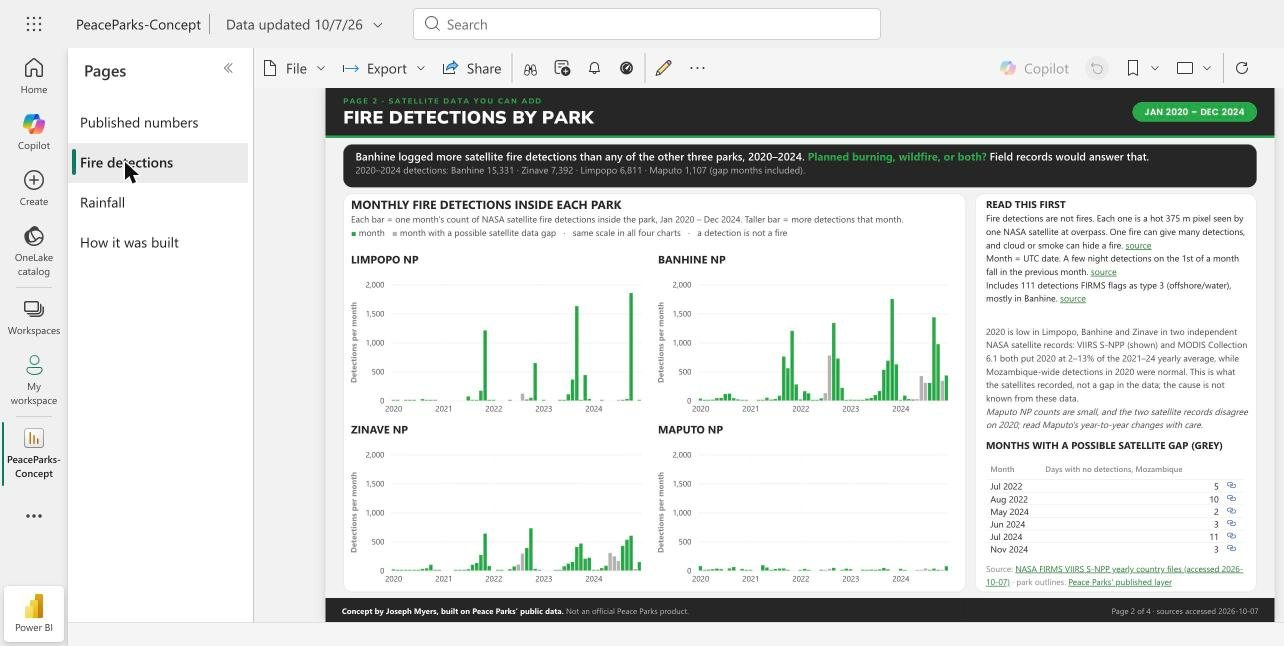

Layout of this report page (visuals, bound fields, positions):
{"tool":"powerbi","page":{"name":"Fire detections","canvas":[1280,720],"ordinal":1},"visuals":[{"type":"textbox","box":[36,79,1208,52],"z":2001},{"type":"textbox","box":[32,146,824,70],"z":2002},{"type":"clusteredColumnChart","title":"LIMPOPO NP","fields":{"Category":["P2_Fires10.MonthDate"],"Y":["P2_Fires10.Fire Detections"]},"box":[32,218,410,226],"z":2003},{"type":"clusteredColumnChart","title":"BANHINE NP","fields":{"Category":["P2_Fires10.MonthDate"],"Y":["P2_Fires10.Fire Detections"]},"box":[446,218,410,226],"z":2004},{"type":"clusteredColumnChart","title":"ZINAVE NP","fields":{"Category":["P2_Fires10.MonthDate"],"Y":["P2_Fires10.Fire Detections"]},"box":[32,448,410,226],"z":2005},{"type":"clusteredColumnChart","title":"MAPUTO NP","fields":{"Category":["P2_Fires10.MonthDate"],"Y":["P2_Fires10.Fire Detections"]},"box":[446,448,410,226],"z":2006},{"type":"textbox","box":[884,146,364,170],"z":2007},{"type":"textbox","box":[884,318,364,150],"z":2008},{"type":"tableEx","title":"MONTHS WITH A POSSIBLE SATELLITE GAP (GREY)","fields":{"Values":["P2_FireGapMonths11.MonthLabel","P2_FireGapMonths11.GapDays","P2_FireGapMonths11.Source","P2_FireGapMonths11.MonthDate"]},"box":[884,470,364,166],"z":2009},{"type":"textbox","box":[884,638,364,39],"z":2010},{"type":"textbox","box":[0,688,860,32],"z":2900},{"type":"textbox","box":[860,688,420,32],"z":2901}]}

Visuals, with their boxes on the page's 1280x720 design canvas (x1, y1, x2, y2). These are canvas units, not pixel positions in the 1284x646 screenshot, which may show the page scaled, cropped or inside an application window:
textbox: locate(36, 79, 1244, 131)
textbox: locate(32, 146, 856, 216)
"LIMPOPO NP" clusteredColumnChart: locate(32, 218, 442, 444)
"BANHINE NP" clusteredColumnChart: locate(446, 218, 856, 444)
"ZINAVE NP" clusteredColumnChart: locate(32, 448, 442, 674)
"MAPUTO NP" clusteredColumnChart: locate(446, 448, 856, 674)
textbox: locate(884, 146, 1248, 316)
textbox: locate(884, 318, 1248, 468)
"MONTHS WITH A POSSIBLE SATELLITE GAP (GREY)" tableEx: locate(884, 470, 1248, 636)
textbox: locate(884, 638, 1248, 677)
textbox: locate(0, 688, 860, 720)
textbox: locate(860, 688, 1280, 720)
